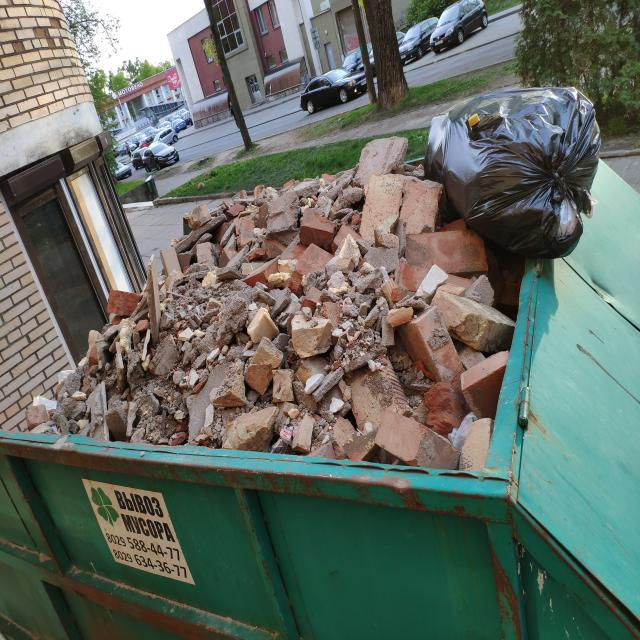entulho: (439, 92, 587, 238), (374, 218, 492, 316)
